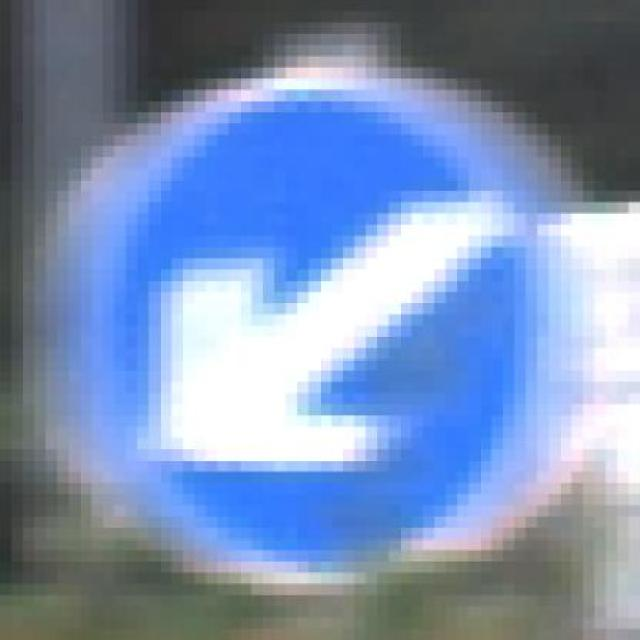Keep-Left: (79, 68, 572, 595)
